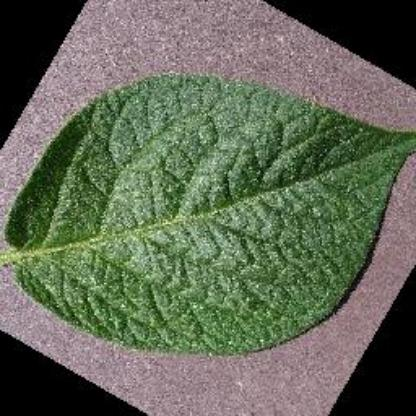Healthy-plant: (13, 29, 400, 372)
